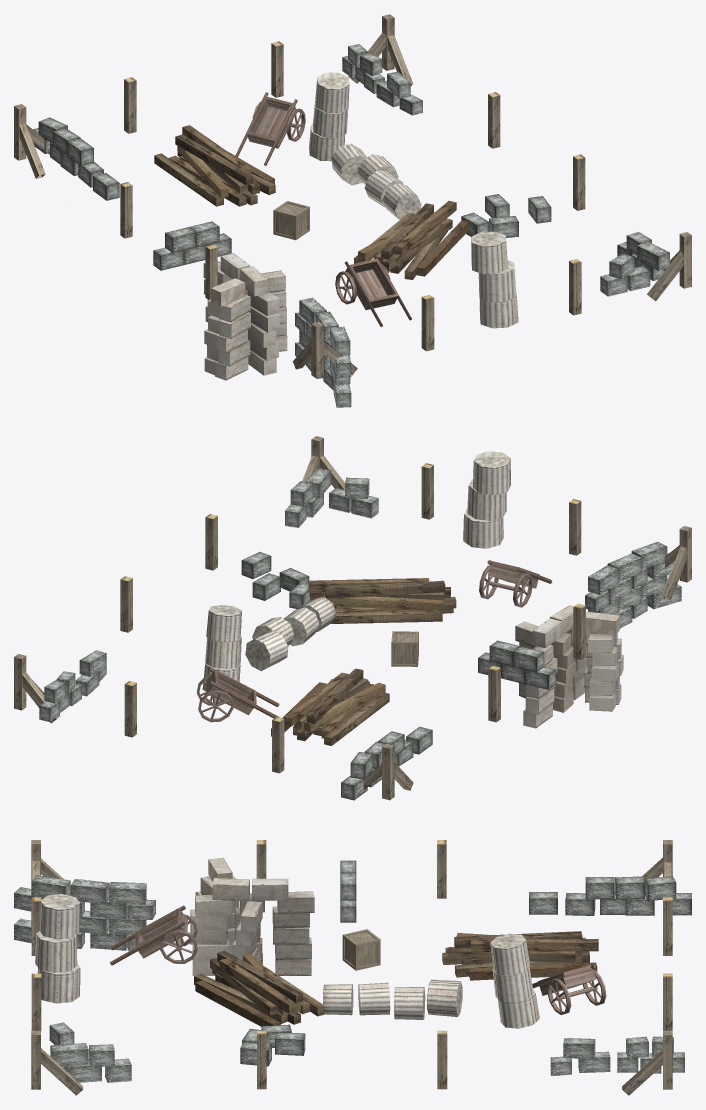
The model's file is fndn_5x7_temple.glb.
3 renders of one model, top to bottom at view 1: azimuth 30°, elevation 25°; view 2: azimuth 150°, elevation 25°; view 3: azimuth 270°, elevation 25°, orthographic. The views are drawn at different scales.
Parts seen in each view (by area): view 1: fndn_5x7_temple_part33, fndn_5x7_temple_part42, fndn_5x7_temple_part37, fndn_5x7_temple_part36, fndn_5x7_temple_part31, fndn_5x7_temple_part24, fndn_5x7_temple_part13, fndn_5x7_temple_part14, fndn_5x7_temple_part34, fndn_5x7_temple_part35, fndn_5x7_temple_part3, fndn_5x7_temple_part1 (+12 smaller); view 2: fndn_5x7_temple_part33, fndn_5x7_temple_part42, fndn_5x7_temple_part36, fndn_5x7_temple_part24, fndn_5x7_temple_part37, fndn_5x7_temple_part31, fndn_5x7_temple_part13, fndn_5x7_temple_part14, fndn_5x7_temple_part35, fndn_5x7_temple_part34, fndn_5x7_temple_part4, fndn_5x7_temple_part3 (+15 smaller); view 3: fndn_5x7_temple_part33, fndn_5x7_temple_part42, fndn_5x7_temple_part24, fndn_5x7_temple_part36, fndn_5x7_temple_part37, fndn_5x7_temple_part31, fndn_5x7_temple_part14, fndn_5x7_temple_part13, fndn_5x7_temple_part34, fndn_5x7_temple_part35, fndn_5x7_temple_part32, fndn_5x7_temple_part1 (+22 smaller).
Boxes of the visible parts, box(x1,y1,x2,y2) form: fndn_5x7_temple_part33: box(203, 253, 287, 380); fndn_5x7_temple_part42: box(309, 72, 421, 219); fndn_5x7_temple_part37: box(154, 125, 275, 206); fndn_5x7_temple_part36: box(354, 201, 469, 279); fndn_5x7_temple_part31: box(471, 231, 518, 328); fndn_5x7_temple_part24: box(295, 297, 351, 407); fndn_5x7_temple_part13: box(600, 232, 669, 296); fndn_5x7_temple_part14: box(342, 44, 422, 115); fndn_5x7_temple_part34: box(335, 254, 411, 326); fndn_5x7_temple_part35: box(235, 92, 305, 165); fndn_5x7_temple_part3: box(14, 104, 49, 178); fndn_5x7_temple_part1: box(647, 232, 691, 301); fndn_5x7_temple_part33: box(515, 605, 623, 728); fndn_5x7_temple_part42: box(202, 597, 336, 691); fndn_5x7_temple_part36: box(308, 578, 456, 623); fndn_5x7_temple_part24: box(585, 541, 681, 628); fndn_5x7_temple_part37: box(271, 668, 389, 745); fndn_5x7_temple_part31: box(463, 451, 510, 548); fndn_5x7_temple_part13: box(285, 468, 378, 527); fndn_5x7_temple_part14: box(39, 650, 106, 721); fndn_5x7_temple_part35: box(196, 667, 279, 722); fndn_5x7_temple_part34: box(479, 560, 552, 607); fndn_5x7_temple_part4: box(661, 526, 691, 600); fndn_5x7_temple_part3: box(363, 743, 413, 800); fndn_5x7_temple_part33: box(190, 857, 314, 975); fndn_5x7_temple_part42: box(323, 933, 539, 1028); fndn_5x7_temple_part24: box(14, 875, 155, 950); fndn_5x7_temple_part36: box(194, 950, 324, 1026); fndn_5x7_temple_part37: box(442, 931, 598, 980); fndn_5x7_temple_part31: box(35, 894, 80, 1003); fndn_5x7_temple_part14: box(550, 1036, 684, 1075); fndn_5x7_temple_part13: box(49, 1022, 131, 1082); fndn_5x7_temple_part34: box(110, 905, 197, 965); fndn_5x7_temple_part35: box(532, 964, 606, 1014); fndn_5x7_temple_part32: box(342, 929, 380, 970); fndn_5x7_temple_part1: box(31, 1030, 83, 1095).
Bounding box in the file's own units: 4.49 × 1.56 × 6.31.
6 materials, 6 textured.
